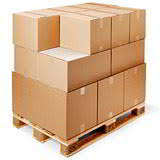box: (11, 71, 67, 139), (67, 51, 111, 91), (67, 81, 97, 137), (98, 72, 124, 125), (111, 40, 145, 75), (60, 16, 91, 53), (38, 53, 67, 91), (11, 12, 38, 50), (125, 62, 146, 109), (13, 44, 39, 79), (91, 15, 111, 53), (38, 13, 59, 49), (112, 11, 130, 48), (130, 8, 146, 42)
pallet: (11, 99, 147, 159)
